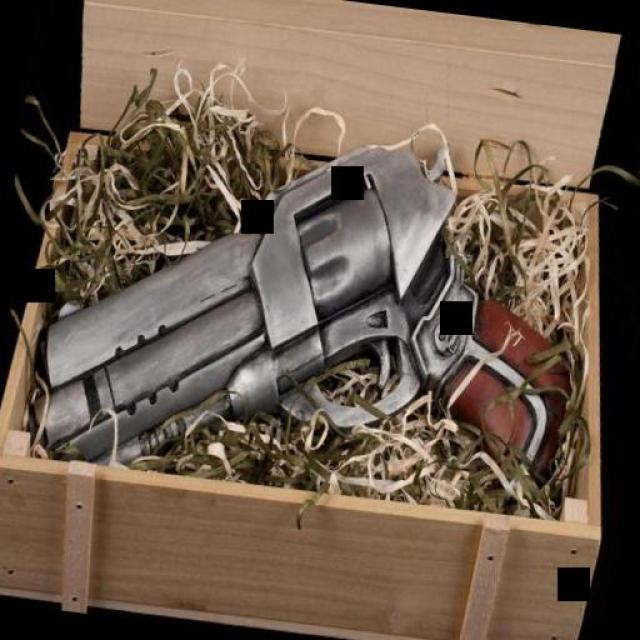gun: (25, 104, 605, 518)
